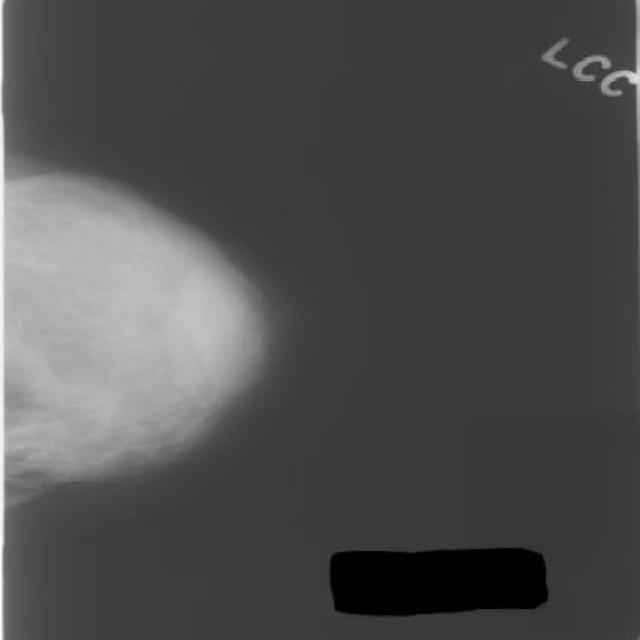tumor: (26, 194, 245, 448)
